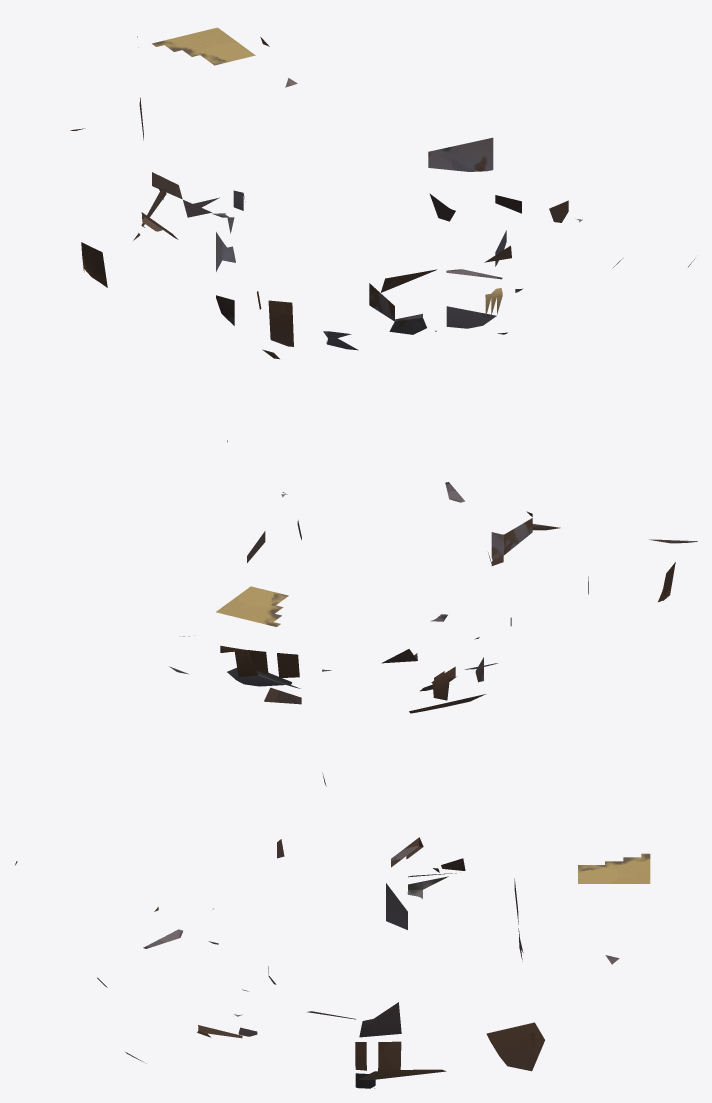
The picture shows the model from 3 angles, top to bottom: view 1: azimuth 30°, elevation 25°; view 2: azimuth 150°, elevation 25°; view 3: azimuth 270°, elevation 25°; orthographic projection. The views are drawn at different scales.
Parts seen in each view (by area): view 1: Grass_-1_3_0, Columns_2_1_-1_000, Dirt_-4_-4_0_111, Columns_-1_-3_-1_101, Dirt_-5_-1_0_001, Columns_-2_-3_-1_100; view 2: Grass_-1_3_0, Columns_-2_-3_-1_110, Dirt_-2_4_0_100, Dirt_-1_4_0_010, Columns_0_2_-2_000; view 3: Dirt_4_2_0_001, Grass_-1_3_0, Columns_-2_0_-1, Dirt_4_0_0_100, Dirt_1_0_-1_001, Dirt_4_0_-1_111.
Part boxes in pixels (x1,y1,x2,y2): Grass_-1_3_0: (152,27,255,65); Columns_2_1_-1_000: (428,137,493,171); Dirt_-4_-4_0_111: (268,300,293,346); Columns_-1_-3_-1_101: (435,269,502,331); Dirt_-5_-1_0_001: (81,242,107,287); Columns_-2_-3_-1_100: (383,299,426,334); Grass_-1_3_0: (216,586,288,626); Columns_-2_-3_-1_110: (488,519,532,565); Dirt_-2_4_0_100: (255,651,299,678); Dirt_-1_4_0_010: (220,645,258,677); Columns_0_2_-2_000: (227,667,291,686); Dirt_4_2_0_001: (486,1022,544,1071); Grass_-1_3_0: (578,853,650,883); Columns_-2_0_-1: (386,872,460,929); Dirt_4_0_0_100: (355,1041,401,1071); Dirt_1_0_-1_001: (359,1002,401,1037); Dirt_4_0_-1_111: (359,1069,446,1080).
Bounding box in the file's own units: 611 × 155 × 605.
Materials: 54 (54 with a texture image).
